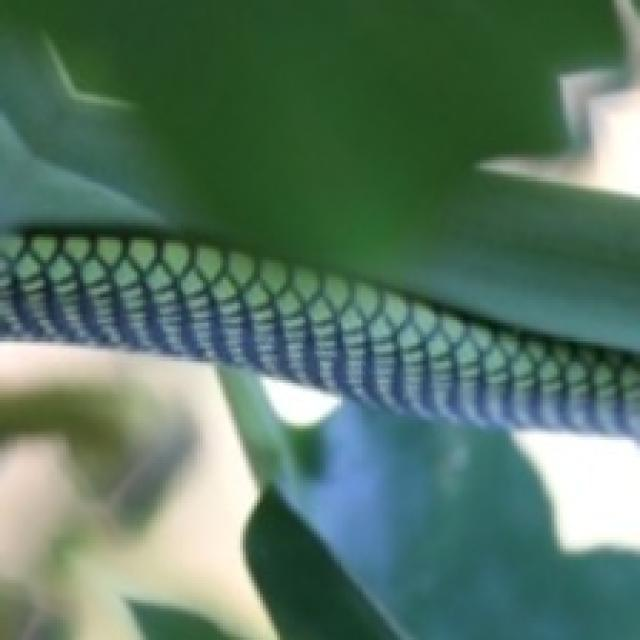paradise tree snake: (0, 231, 637, 434)
